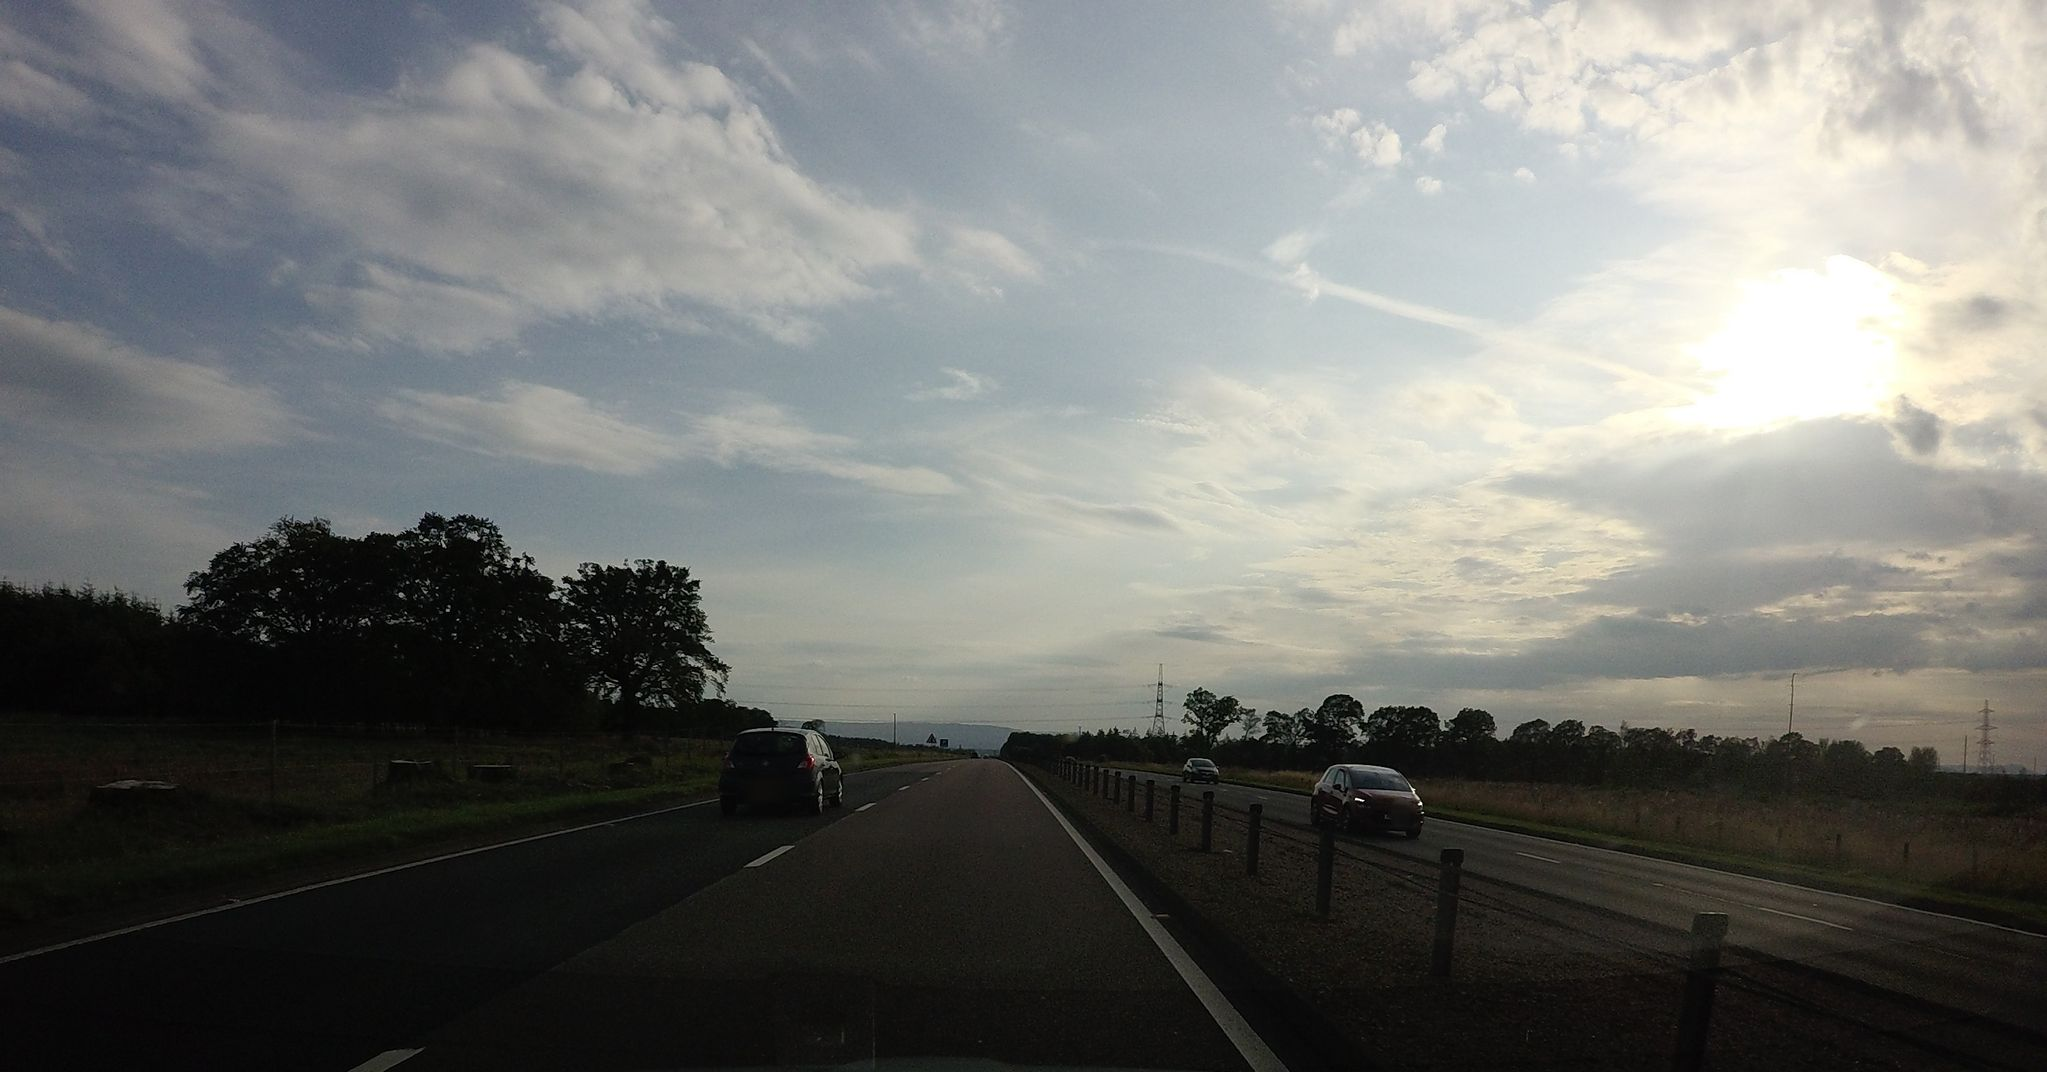car: (718, 725, 843, 812), (1311, 763, 1424, 841), (1181, 757, 1218, 784)
